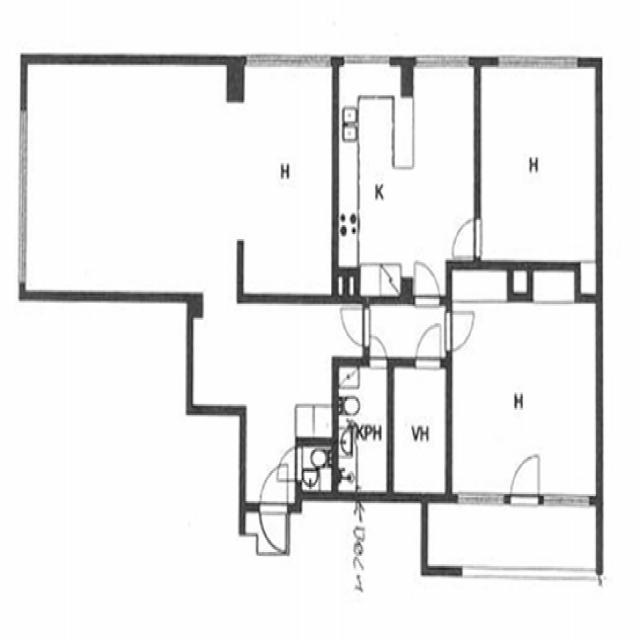door: (510, 450, 538, 503), (259, 502, 287, 554), (259, 459, 287, 511), (420, 312, 452, 351), (415, 320, 441, 368), (451, 220, 482, 256), (362, 322, 386, 367), (272, 436, 302, 471), (582, 240, 594, 265)
